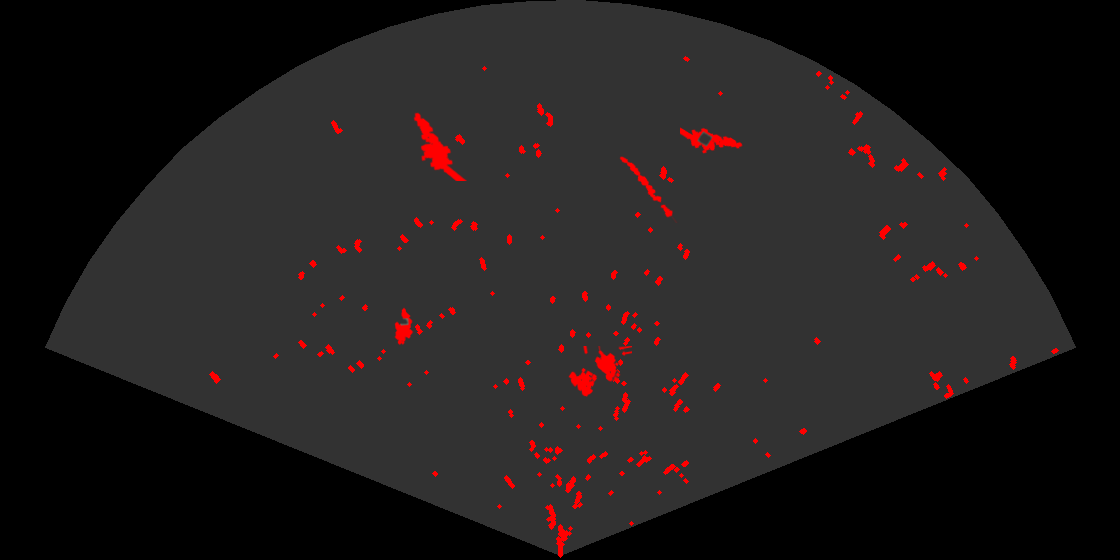AUV: (393, 306, 415, 347)
cage: (567, 346, 632, 398)
chain: (618, 155, 679, 223)
frogman: (412, 111, 467, 181), (680, 126, 744, 155)
